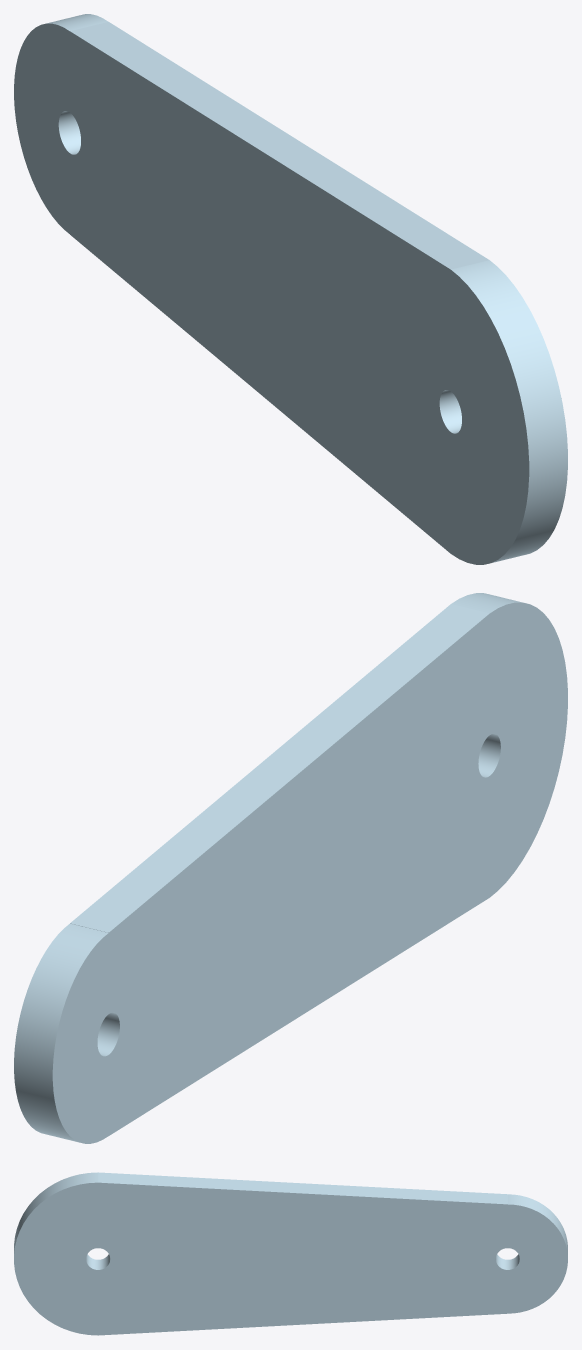
The picture shows the model from 3 angles, top to bottom: view 1: azimuth 30°, elevation 25°; view 2: azimuth 150°, elevation 25°; view 3: azimuth 270°, elevation 25°; orthographic projection. The views are drawn at different scales.
Parts seen in each view (by area): view 1: mesh999, mesh1000, mesh1001, mesh1006, mesh997; view 2: mesh999, mesh1000, mesh1004, mesh1001, mesh997, mesh1006; view 3: mesh998, mesh1000, mesh1001, mesh1004, mesh997, mesh1006.
Part boxes in pixels (x1,y1,x2,y2): mesh999: (14,23,529,564); mesh1000: (70,21,489,269); mesh1001: (451,260,567,562); mesh1006: (58,111,80,154); mesh997: (439,390,461,433); mesh999: (52,602,567,1143); mesh1000: (70,604,489,932); mesh1004: (14,923,108,1142); mesh1001: (451,593,522,613); mesh997: (478,733,500,777); mesh1006: (97,1012,119,1056); mesh998: (14,1182,567,1335); mesh1000: (98,1172,507,1204); mesh1001: (14,1172,98,1253); mesh1004: (508,1194,567,1254); mesh997: (86,1254,110,1269); mesh1006: (495,1254,519,1269).
Size of the model in its own units: 0.00635 by 0.0444 by 0.146.
